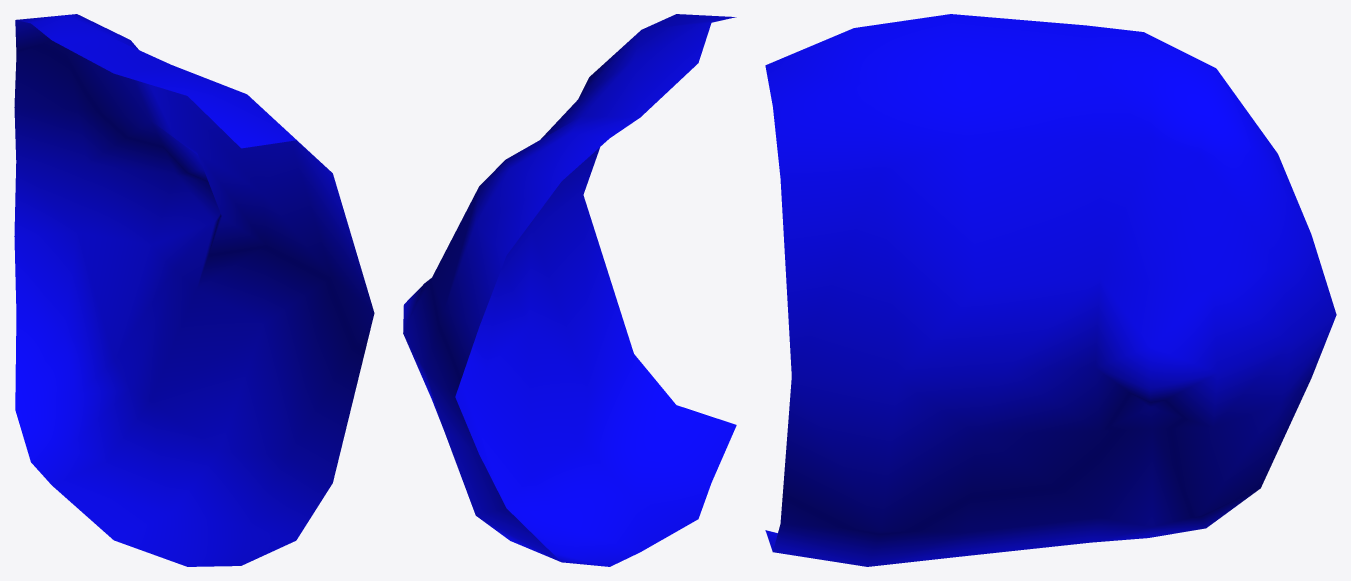
The picture shows the model from 3 angles, left to right: view 1: azimuth 30°, elevation 25°; view 2: azimuth 150°, elevation 25°; view 3: azimuth 270°, elevation 25°; orthographic projection. The views are drawn at different scales.
Parts seen in each view (by area): view 1: vr_face_001; view 2: vr_face_001; view 3: vr_face_001.
Part boxes in pixels (<box>): vr_face_001: <box>14,14,374,566</box>; vr_face_001: <box>403,14,736,566</box>; vr_face_001: <box>765,14,1336,566</box>.
Bounding box in the file's own units: 11.16 × 23.53 × 23.24.
